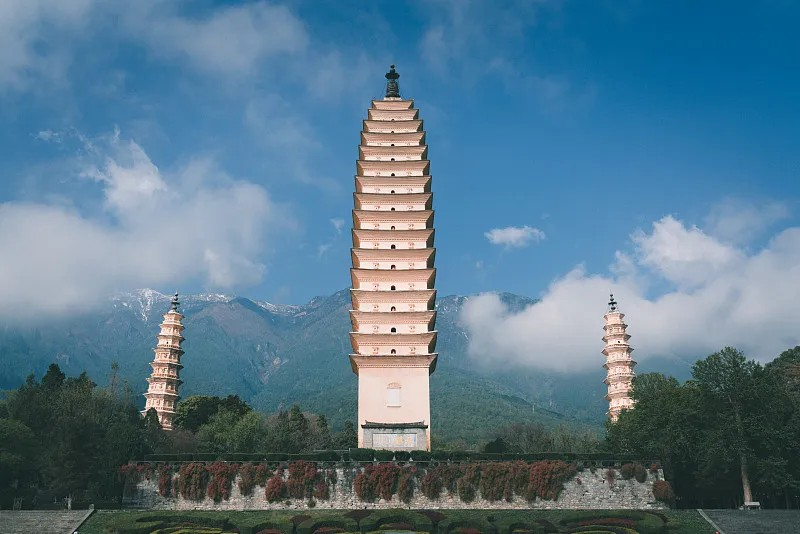ThreePagoda: (347, 64, 438, 451)
